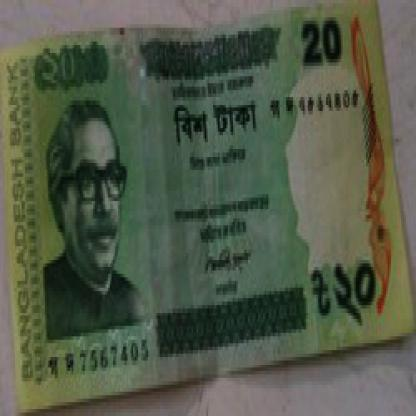Twenty: (155, 101, 273, 149), (33, 45, 128, 101), (292, 10, 354, 80), (313, 263, 379, 319)
